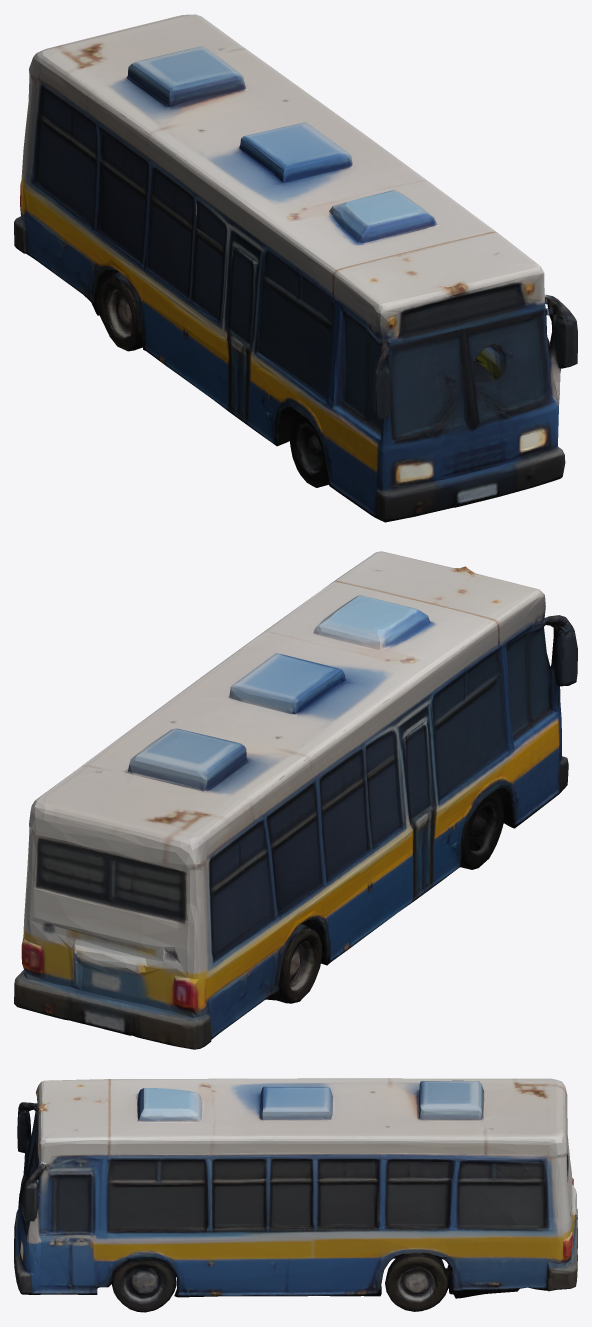
3 renders of one model, top to bottom at view 1: azimuth 30°, elevation 25°; view 2: azimuth 150°, elevation 25°; view 3: azimuth 270°, elevation 25°, orthographic. The views are drawn at different scales.
Visible parts, largest first — view 1: world; view 2: world; view 3: world.
Boxes of the visible parts, x1,y1,x2,y2 form: world: (14,14,577,522); world: (14,551,577,1049); world: (14,1078,577,1312).
Size of the model in its own units: 0.2535 by 0.2913 by 0.7919.
Materials: 1 (1 with a texture image).
